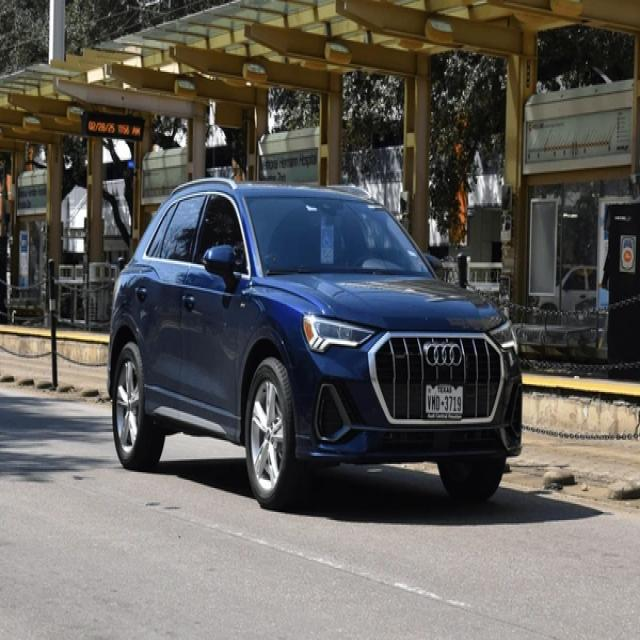audi: (423, 340, 461, 368)
